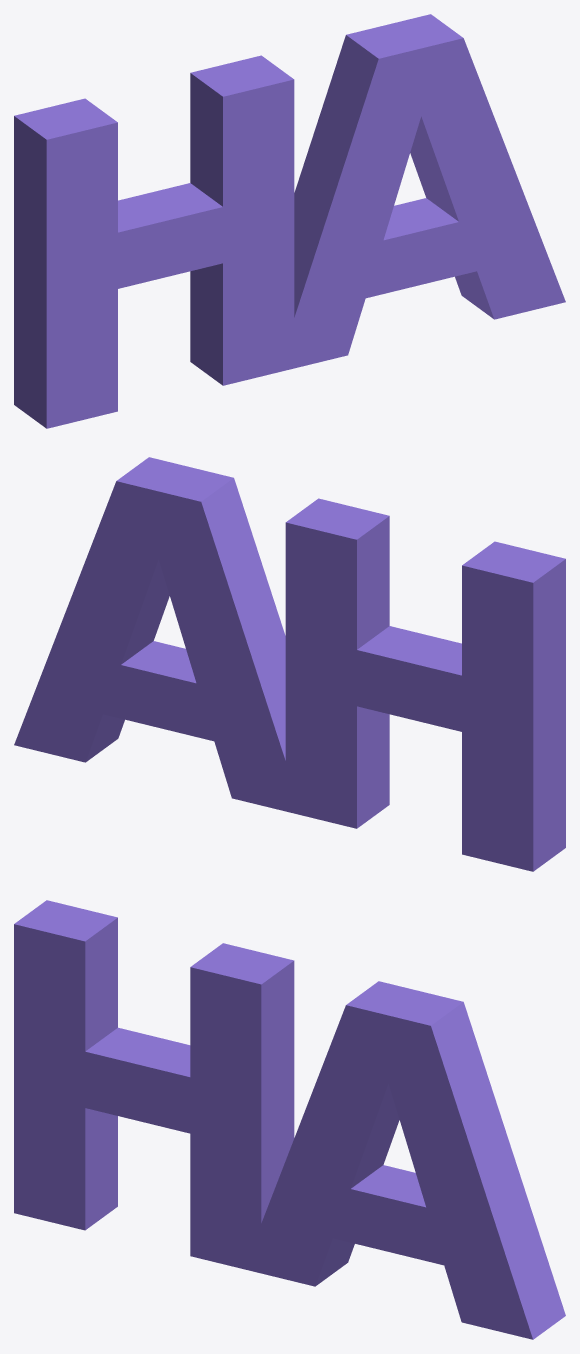
File: suku_besar_ha.glb
3 views of the same model, one above another, from view 1: azimuth 30°, elevation 25°; view 2: azimuth 150°, elevation 25°; view 3: azimuth 330°, elevation 25° (orthographic).
Parts seen in each view (by area): view 1: geometry_0; view 2: geometry_0; view 3: geometry_0.
Boxes of the visible parts, <box> form: geometry_0: <box>14,14,565,428</box>; geometry_0: <box>14,457,565,871</box>; geometry_0: <box>14,900,565,1339</box>.
Bounding box in the file's own units: 13.7 × 7.29 × 1.5.
